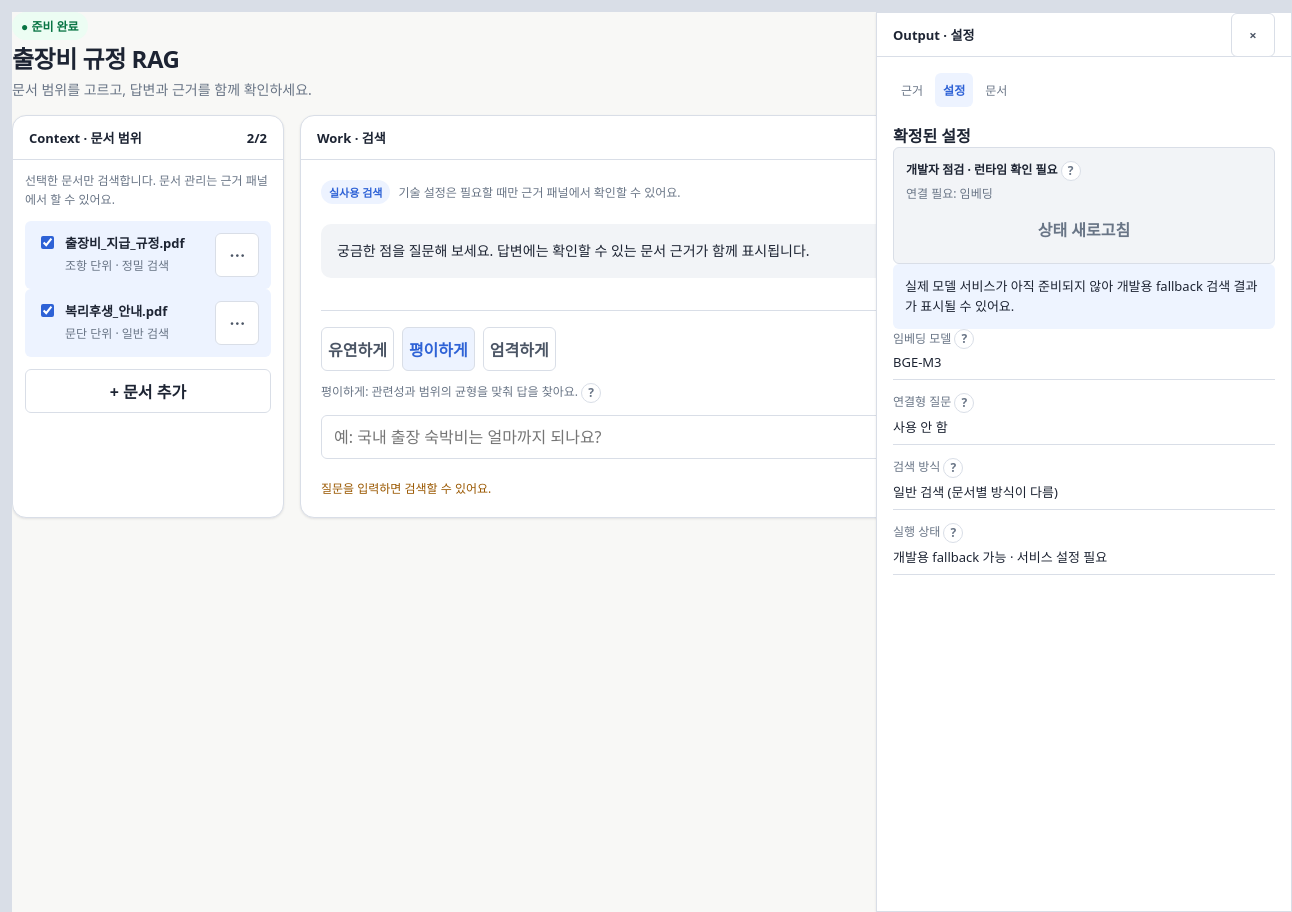
Test: RagDetailPage workspace › explains the selected search sensitivity in plain language
Expected: the field named "검색 질문" is shown, [321,415,1174,459]
Expected: the text "평이하게: 관련성과 범위의 균형을 맞춰 답을 찾아요. ?" is shown, [321,383,601,403]
What coordinates should you click on to do the following:
click the button "엄격하게"
I would click on:
 (519, 349)
Its box is [483,327,556,371].
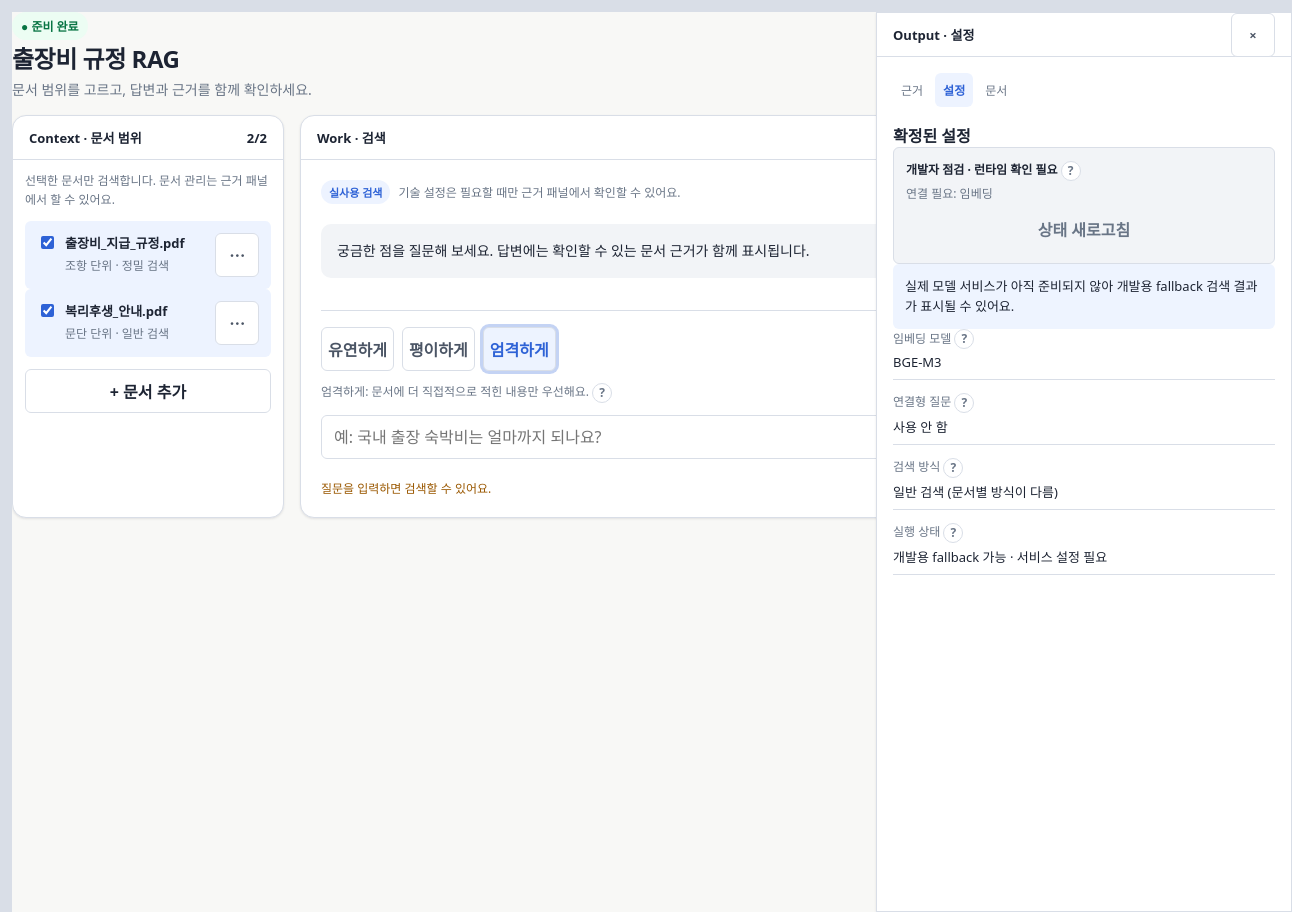
Expected: the text "엄격하게: 문서에 더 직접적으로 적힌 내용만 우선해요. ?" is shown, [321,383,612,403]
